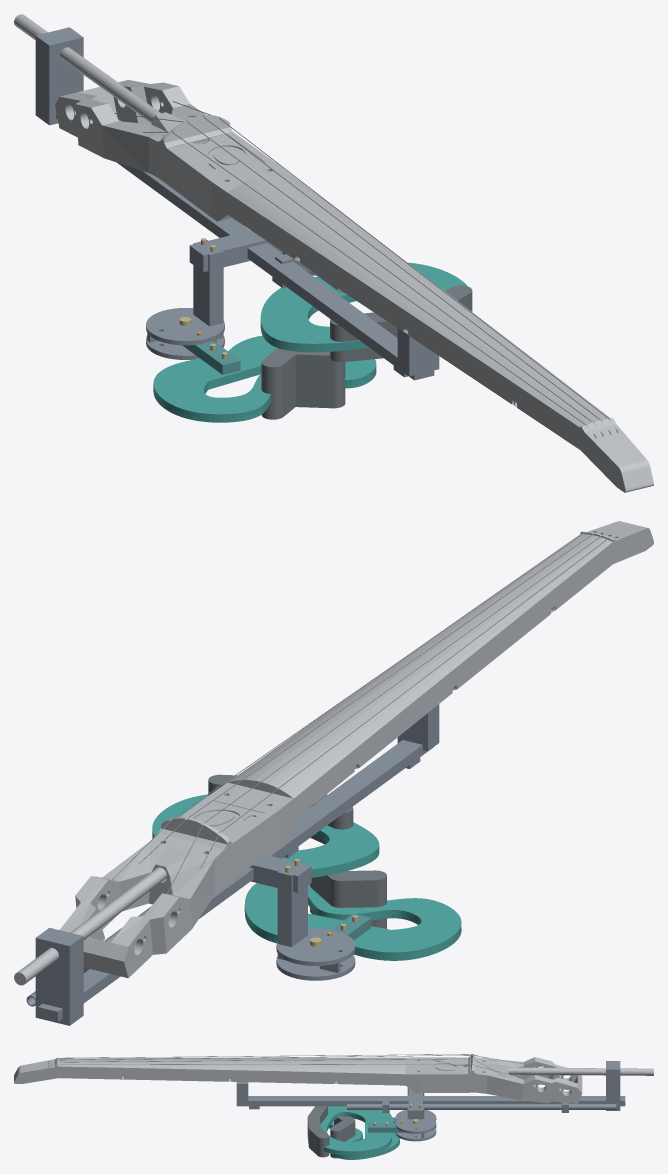
File: travel.glb
The picture shows the model from 3 angles, top to bottom: view 1: azimuth 30°, elevation 25°; view 2: azimuth 150°, elevation 25°; view 3: azimuth 270°, elevation 25°; orthographic projection. The views are drawn at different scales.
Visible parts, largest first — view 1: Part_3, Part_6, Part_1, Part_2, contoured_frame_-1, Part_4, rear_metal_backbone, padded_contact_-1, contoured_frame_1, Part_5, lower_metal_adapter_PROPOSED, clevis_base_-1 (+11 smaller); view 2: Part_6, contoured_frame_-1, Part_3, Part_4, Part_2, rear_metal_backbone, Part_1, Part_5, lower_metal_adapter_PROPOSED, contoured_frame_1, clevis_base_-1, padded_contact_-1 (+10 smaller); view 3: Part_6, Part_3, rear_metal_backbone, Part_2, Part_4, Part_1, contoured_frame_1, Part_5, stowed_endpin_tube, Center_bar, padded_contact_1, clevis_base_1 (+11 smaller).
Boxes of the visible parts, <box> form: Part_3: <box>294,220,451,330</box>; Part_6: <box>55,80,205,177</box>; Part_1: <box>511,371,653,492</box>; Part_2: <box>402,295,549,408</box>; contoured_frame_-1: <box>153,335,376,422</box>; Part_4: <box>211,165,352,263</box>; rear_metal_backbone: <box>56,113,434,380</box>; padded_contact_-1: <box>261,348,345,419</box>; contoured_frame_1: <box>260,262,467,352</box>; Part_5: <box>148,127,278,221</box>; lower_metal_adapter_PROPOSED: <box>35,27,83,125</box>; clevis_base_-1: <box>146,308,224,359</box>; Part_6: <box>60,842,224,978</box>; contoured_frame_-1: <box>244,883,461,960</box>; Part_3: <box>294,658,451,767</box>; Part_4: <box>211,733,359,840</box>; Part_2: <box>404,582,556,693</box>; rear_metal_backbone: <box>38,740,433,1022</box>; Part_1: <box>511,521,653,609</box>; Part_5: <box>149,794,284,885</box>; lower_metal_adapter_PROPOSED: <box>35,927,83,1025</box>; contoured_frame_1: <box>152,794,379,877</box>; clevis_base_-1: <box>276,928,355,980</box>; padded_contact_-1: <box>310,870,386,928</box>; Part_6: <box>477,1057,582,1103</box>; Part_3: <box>226,1057,339,1084</box>; rear_metal_backbone: <box>236,1096,625,1106</box>; Part_2: <box>127,1057,233,1081</box>; Part_4: <box>340,1057,421,1092</box>; Part_1: <box>14,1057,126,1083</box>; contoured_frame_1: <box>320,1106,393,1155</box>; Part_5: <box>415,1055,486,1092</box>; stowed_endpin_tube: <box>347,1104,616,1109</box>; Center_bar: <box>428,1067,653,1075</box>; padded_contact_1: <box>307,1106,329,1157</box>; clevis_base_1: <box>395,1115,436,1141</box>.
Bounding box in the file's own units: 291 × 181 × 1070.
